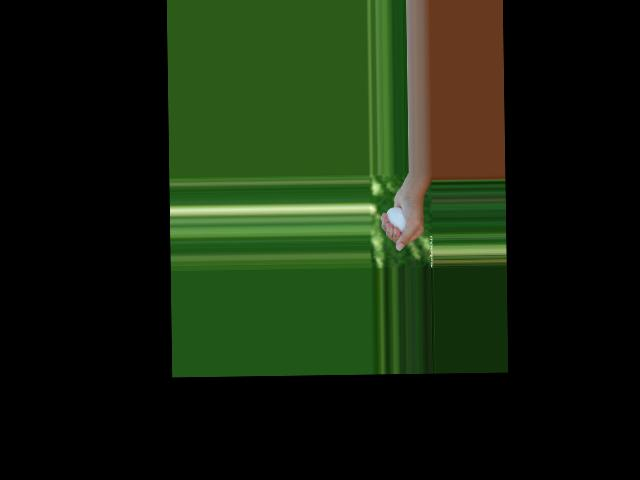egg: (386, 207, 406, 233)
